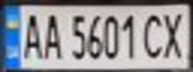0: (103, 11, 121, 61)
1: (118, 10, 142, 60)
5: (63, 10, 87, 61)
6: (84, 11, 106, 61)
A: (18, 9, 45, 60), (39, 10, 66, 61)
C: (139, 10, 166, 60)
X: (157, 9, 190, 60)
